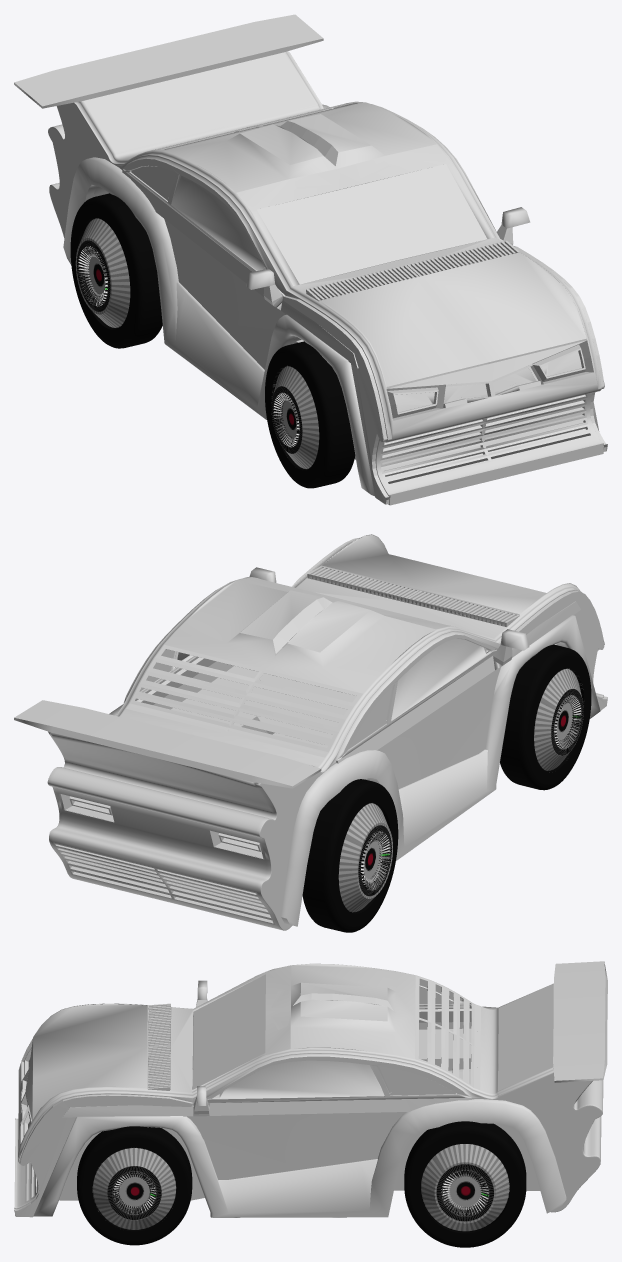
Rendered from MiniCar.fbx.
3 renders of one model, top to bottom at view 1: azimuth 30°, elevation 25°; view 2: azimuth 150°, elevation 25°; view 3: azimuth 270°, elevation 25°, orthographic. The views are drawn at different scales.
Parts seen in each view (by area): view 1: MAIN BODY, black, L_REAR WHEEL001, L_FRONT WHEEL001, silver, white; view 2: MAIN BODY, L_REAR WHEEL001, L_FRONT WHEEL001, black, silver; view 3: MAIN BODY, L_REAR WHEEL, black, L_FRONT WHEEL.
Boxes of the visible parts, left/top/right/bottom form: MAIN BODY: left=14, top=14, right=607, bottom=505; black: left=133, top=164, right=535, bottom=403; L_REAR WHEEL001: left=70, top=193, right=162, bottom=348; L_FRONT WHEEL001: left=265, top=341, right=355, bottom=488; silver: left=387, top=344, right=585, bottom=418; white: left=395, top=351, right=581, bottom=412; MAIN BODY: left=14, top=534, right=607, bottom=930; L_REAR WHEEL001: left=302, top=779, right=398, bottom=932; L_FRONT WHEEL001: left=500, top=644, right=591, bottom=790; black: left=177, top=638, right=491, bottom=747; silver: left=69, top=661, right=261, bottom=851; MAIN BODY: left=14, top=961, right=607, bottom=1217; L_REAR WHEEL: left=404, top=1121, right=526, bottom=1247; black: left=192, top=974, right=455, bottom=1099; L_FRONT WHEEL: left=77, top=1126, right=192, bottom=1245.
Size of the model in its own units: 24.05 by 18.61 by 50.49.
1 material, 1 textured.
